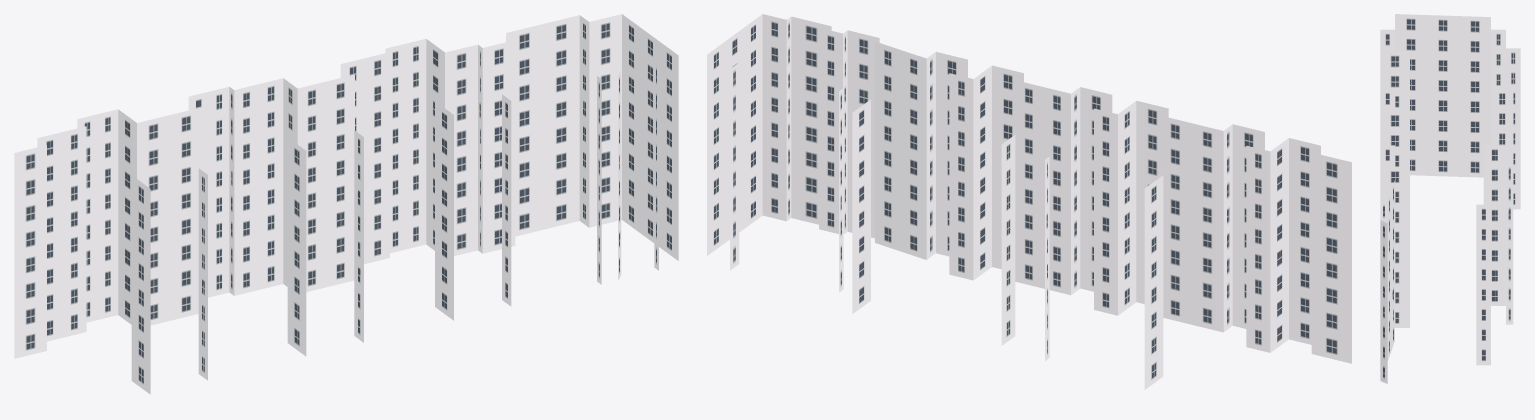
3 renders of one model, left to right at view 1: azimuth 30°, elevation 25°; view 2: azimuth 150°, elevation 25°; view 3: azimuth 270°, elevation 25°, orthographic. The views are drawn at different scales.
Size of the model in its own units: 74 by 24 by 19.
Materials: 2 (1 with a texture image).
